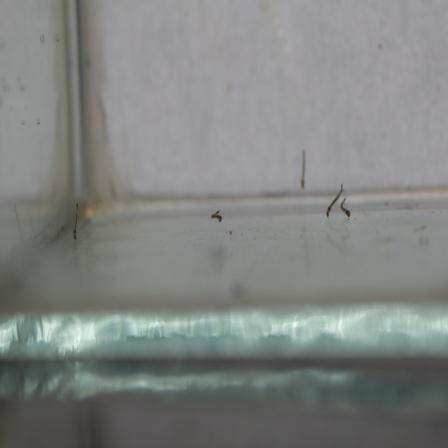Jentik-Nyamuk: (323, 178, 355, 223), (68, 198, 83, 243), (298, 146, 311, 193), (208, 205, 225, 225)
